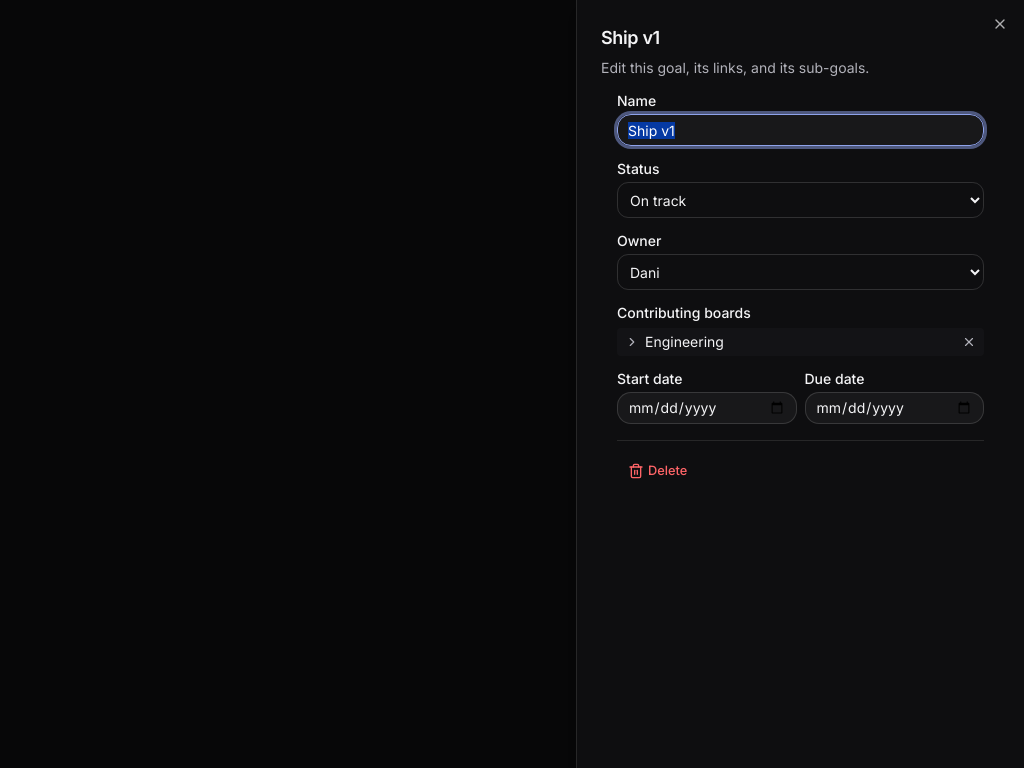
GoalDetailDrawer done-mapping › lists the linked board and expands to show the persisted mapping
Expected: the text "Engineering" is shown, [645, 332, 724, 352]
Click the button with aria-label "edit done mapping for engineering" at (684, 342), box [625, 332, 962, 352]
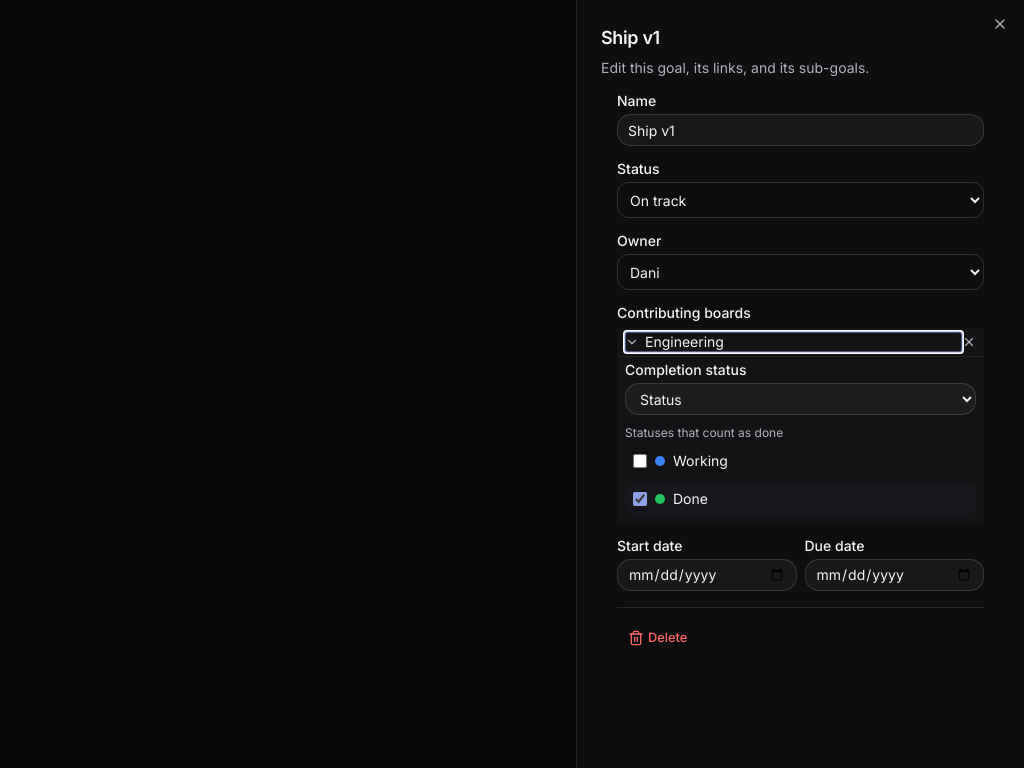
Now the checkbox labelled "Done" is checked, box [633, 492, 647, 506]
Now the checkbox labelled "Working" is not checked, box [633, 454, 647, 468]
